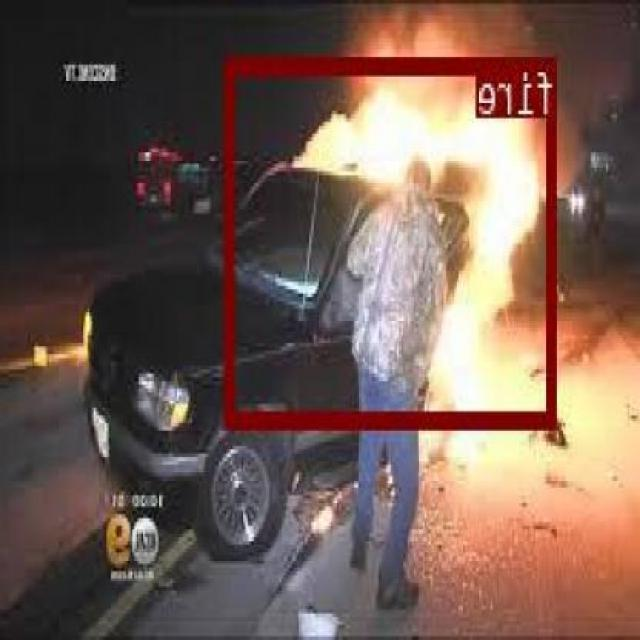Fire: (226, 56, 560, 424)
